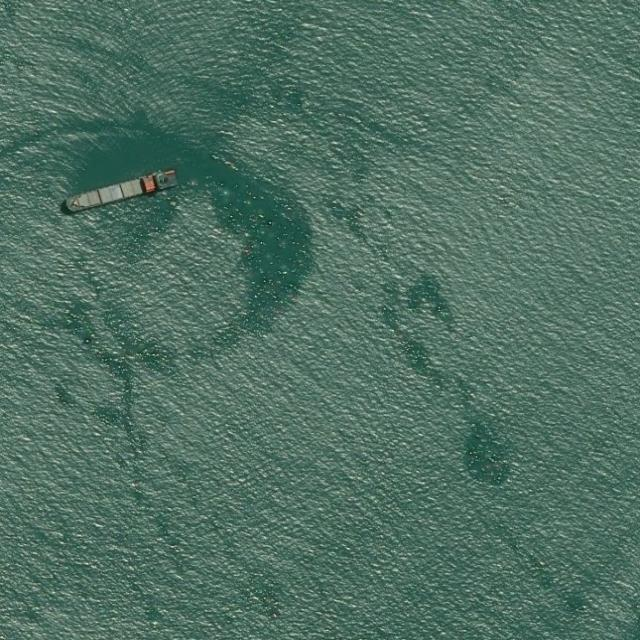Cargo: (62, 168, 182, 216)
